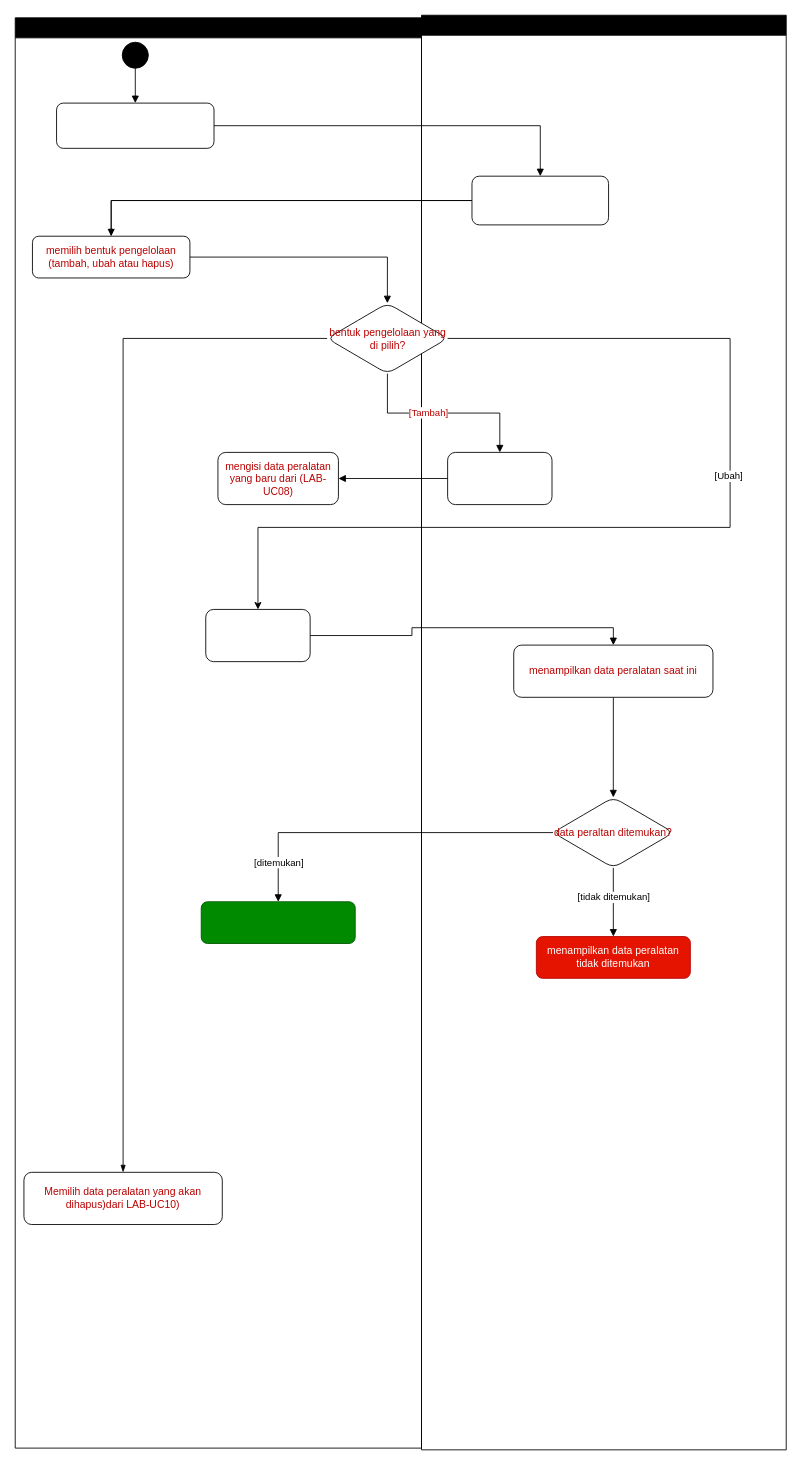
Image size: 802x1465. Some labels were removed from this diagram. The centre of each missing label's shape, as x and y in pixels:
membuka fungsi kelola data peralatan: the point at 135,125
memilih data peralatan yang akan diubah (dari LAB-UC 09): the point at 257,635
menampilkan daftar peralatan: the point at 540,200
menampilkan formulir data peralatan baru: the point at 499,478
mengubah data peralatan (dari LAB-UC09): the point at 277,922
